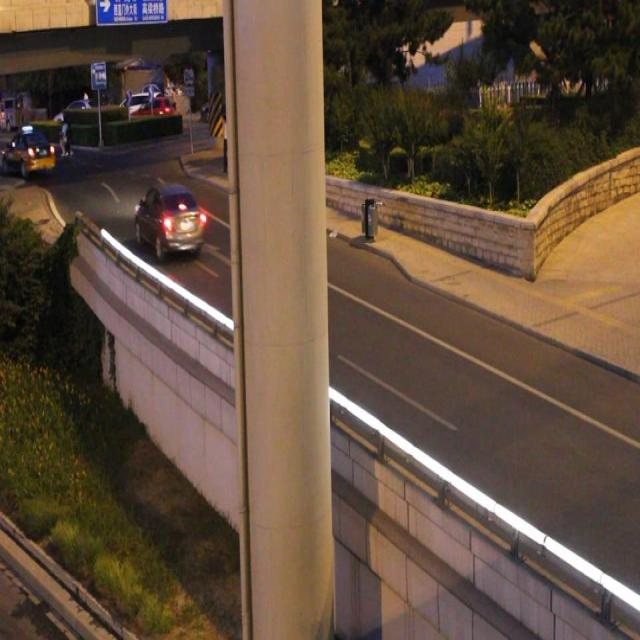car: (136, 185, 203, 255)
